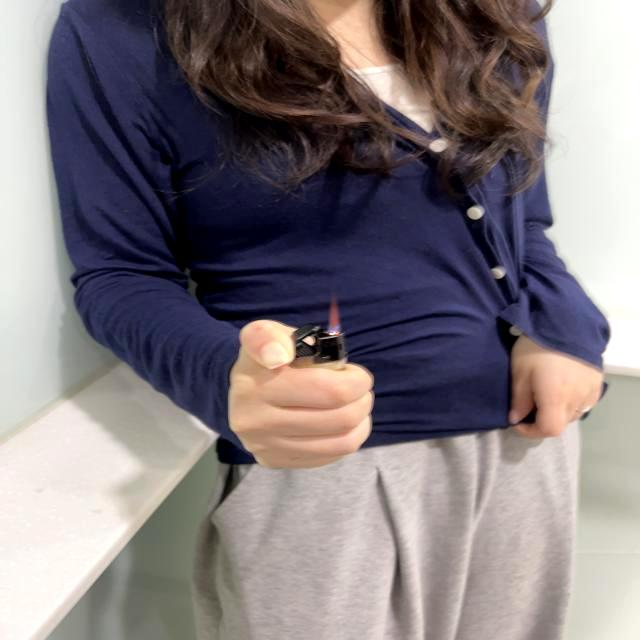fire: (326, 294, 340, 334)
